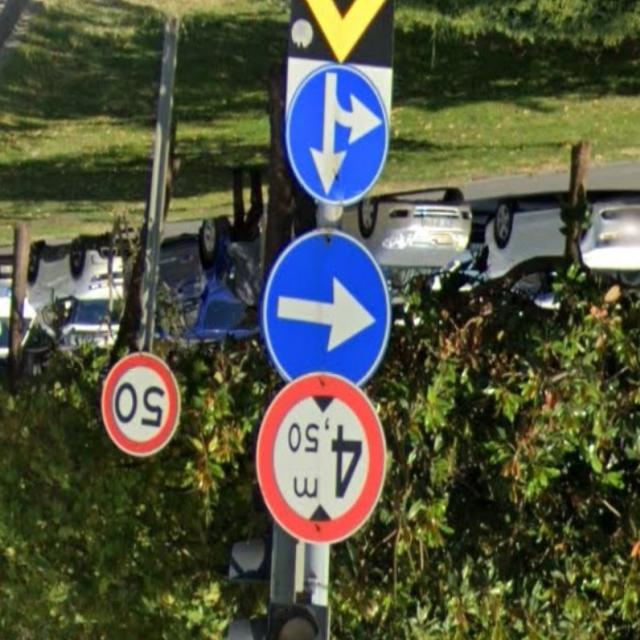Turn Right: (257, 234, 395, 388)
